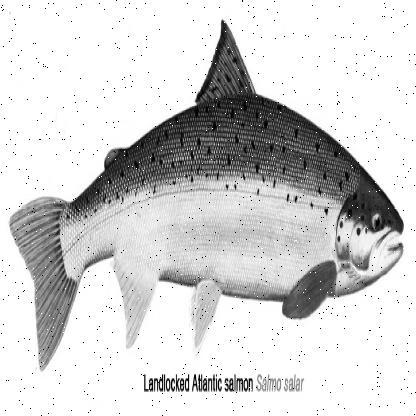fish: (11, 10, 404, 366)
